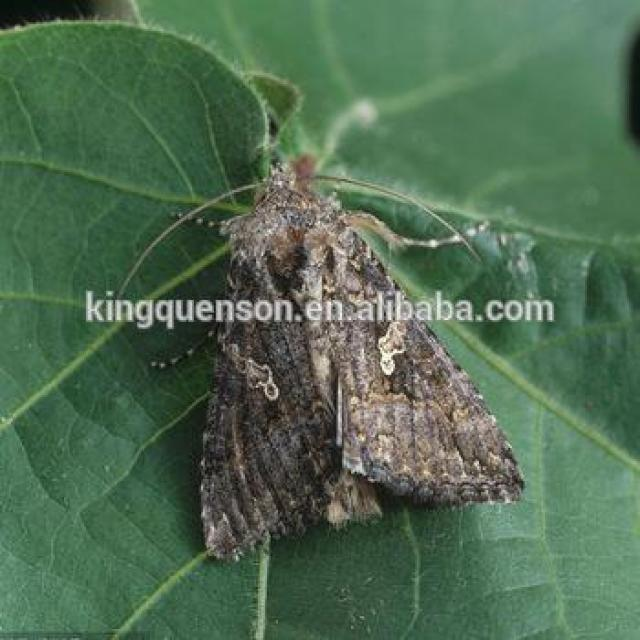armyworm: (182, 142, 545, 573)
